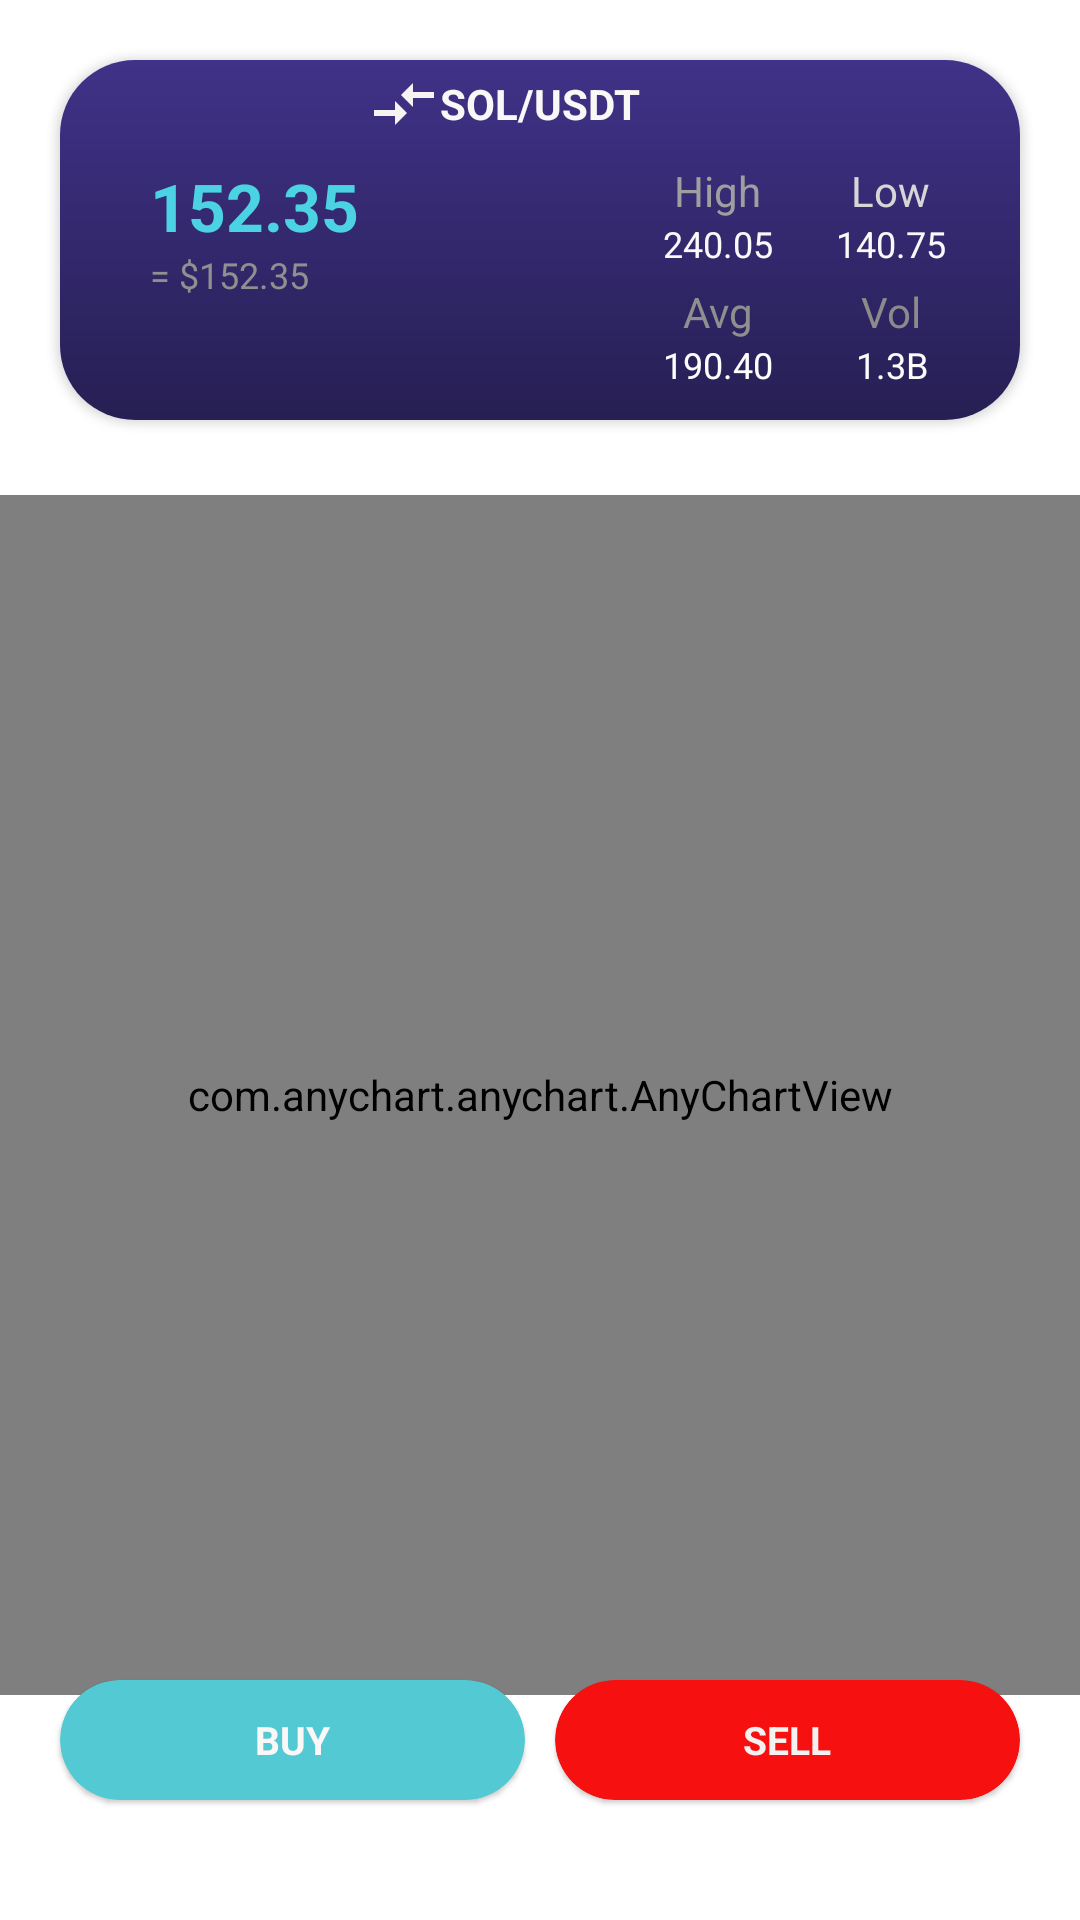

Screen size 1080x1920. Icon name, then its box in pixels as (x1, y1, x2, y2):
compare arrows: (374, 83, 434, 125)
